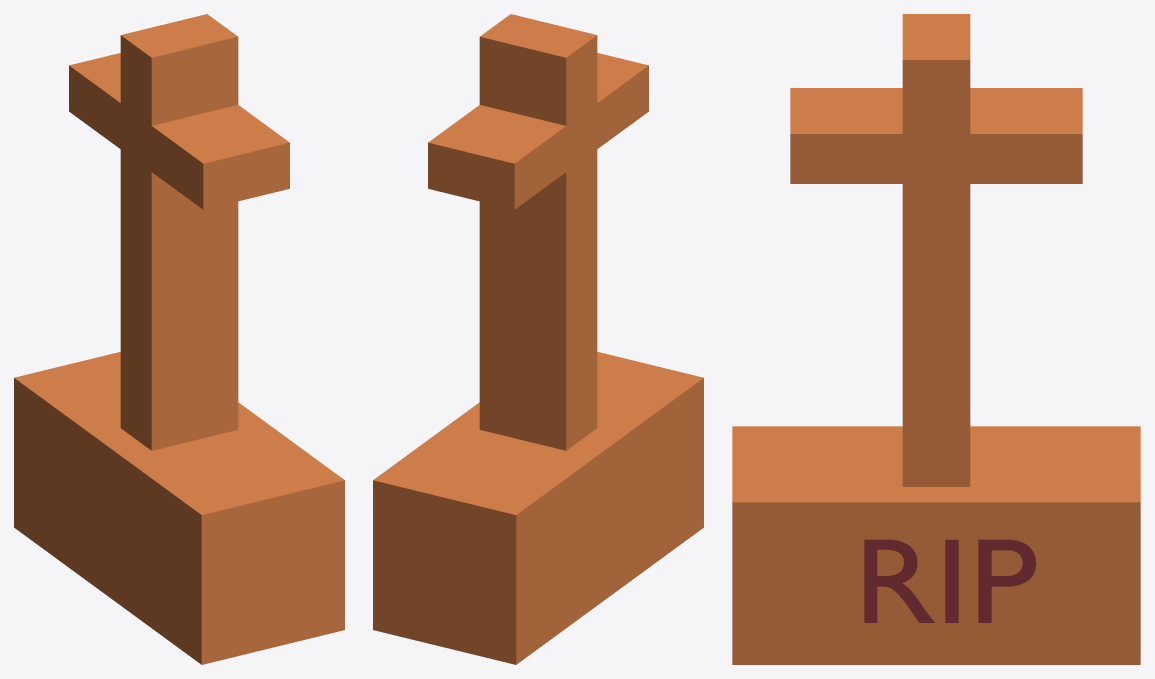
Rendered from gravestone.fbx.
3 views of the same model, side by side, from view 1: azimuth 30°, elevation 25°; view 2: azimuth 150°, elevation 25°; view 3: azimuth 270°, elevation 25° (orthographic). The views are drawn at different scales.
Visible parts, largest first — view 1: Cube; view 2: Cube; view 3: Cube, Text.
Boxes of the visible parts, <box> form: Cube: <box>14,14,344,664</box>; Cube: <box>373,14,703,664</box>; Cube: <box>732,14,1140,664</box>; Text: <box>864,539,1036,622</box>.
Bounding box in the file's own units: 205 × 725 × 454.
